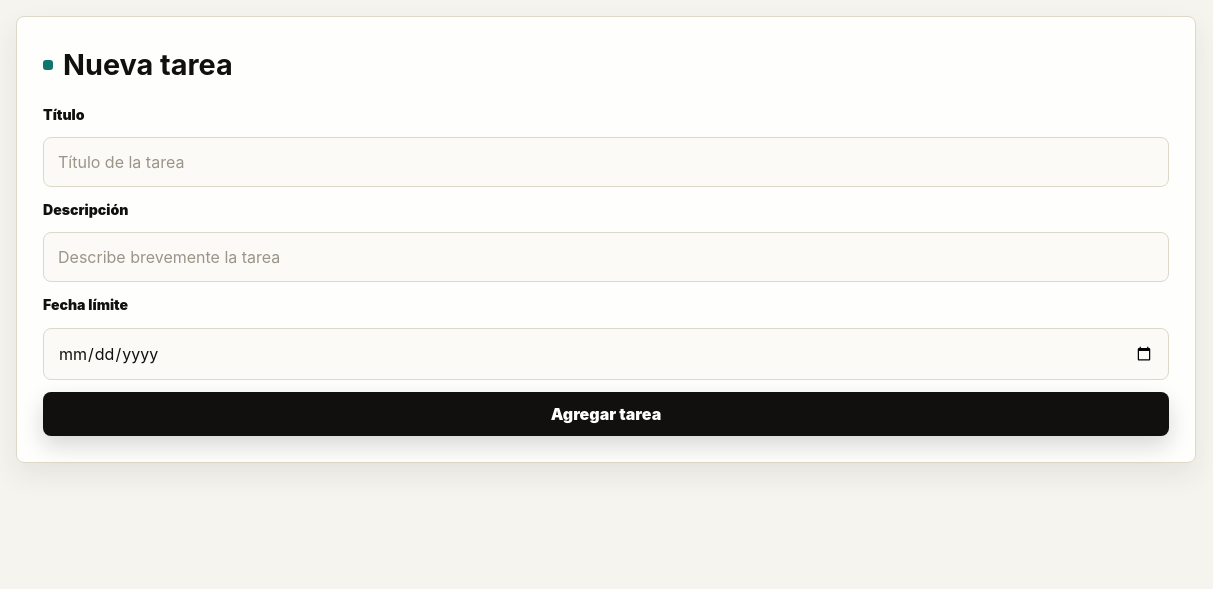
Test: TaskForm › muestra errores si se envia vacio
Click the button "Agregar tarea": point(606, 414) 43,392 -> 1169,436
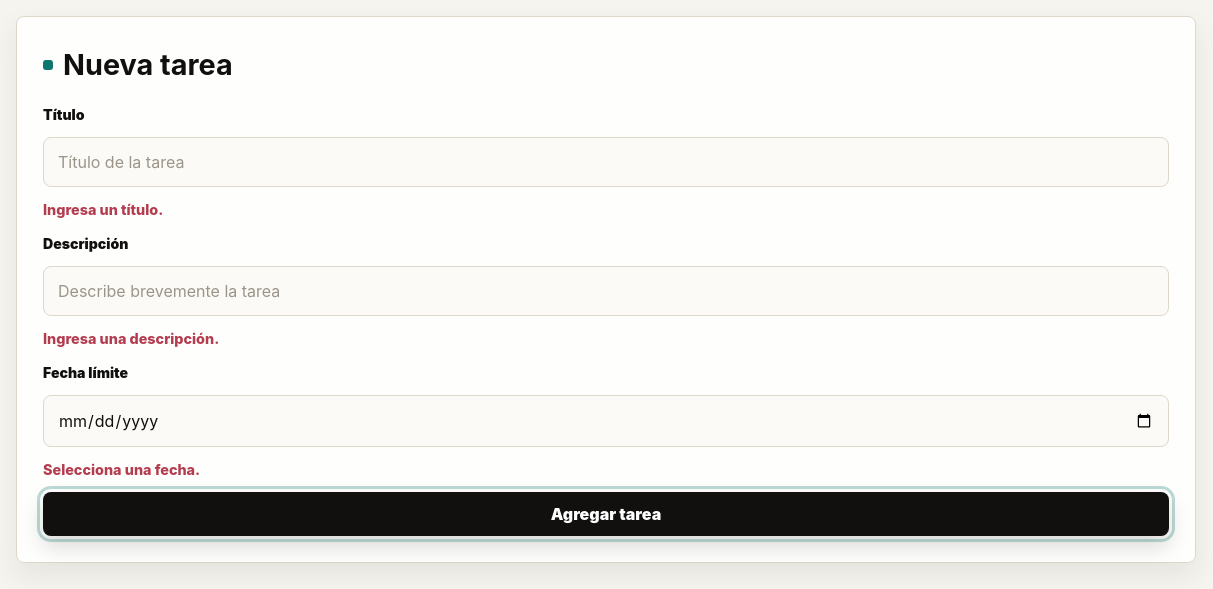
Expected: the text "Ingresa un título." is shown, 43,201 -> 163,218
Expected: the text "Ingresa una descripción." is shown, 43,330 -> 219,347
Expected: the text "Selecciona una fecha." is shown, 43,461 -> 200,478
